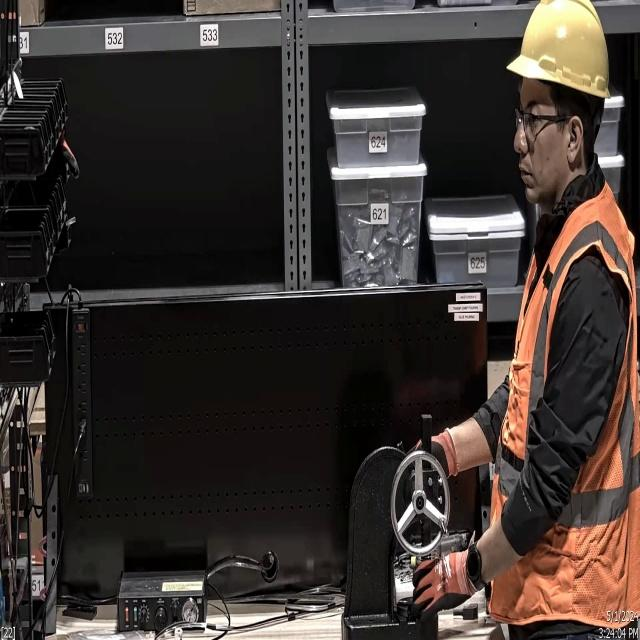gloves: (404, 546, 475, 628)
